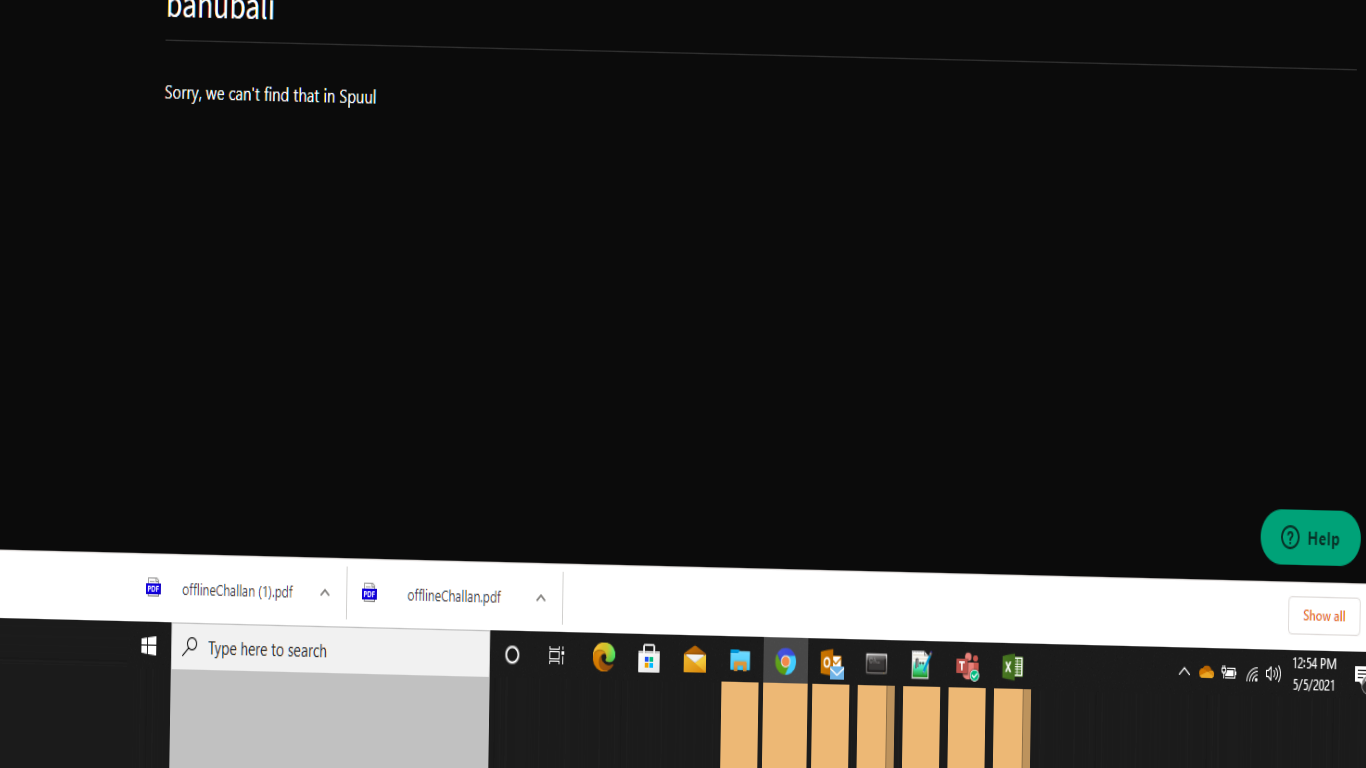noresultsfound: (117, 61, 400, 128)
searchtextbox: (155, 2, 1297, 46)
